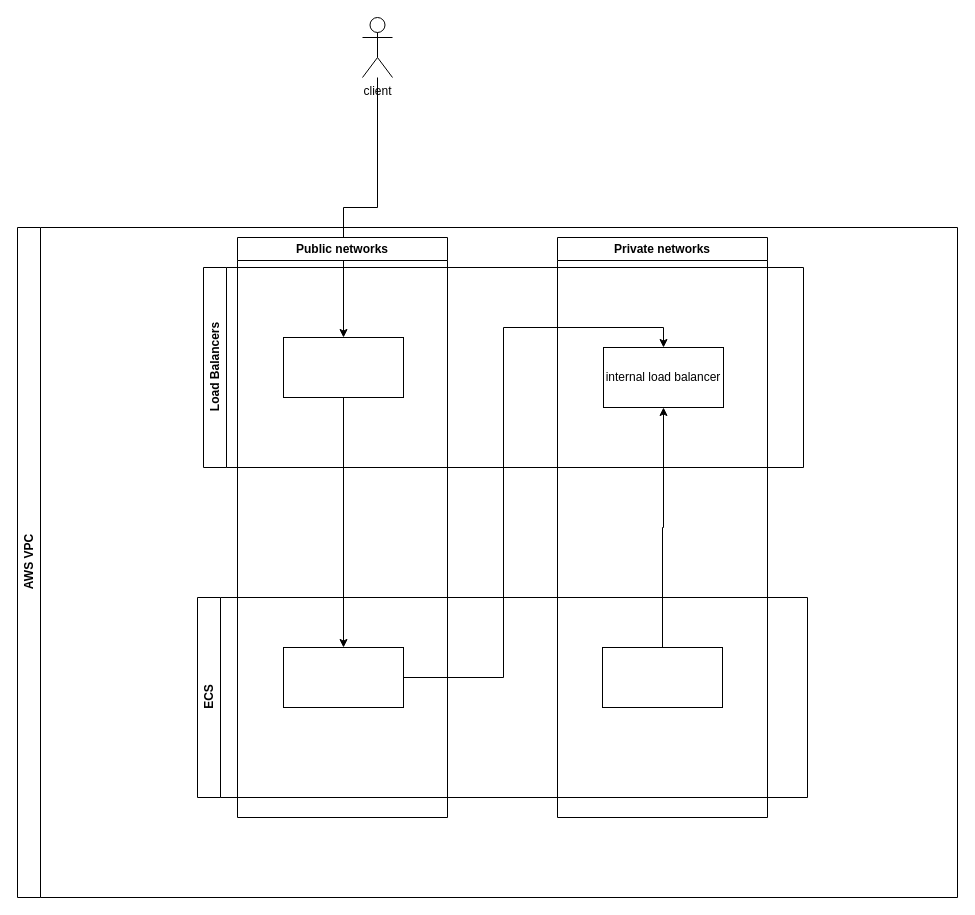
The diagram is 975 pixels wide and 915 high, and some of its shapes have lost their labels. Here are the shapes that lost their labels. From the top down, the centre of each, then its label:
(343,367): External load balancer
(343,677): External web service
(662,677): Internal web service
